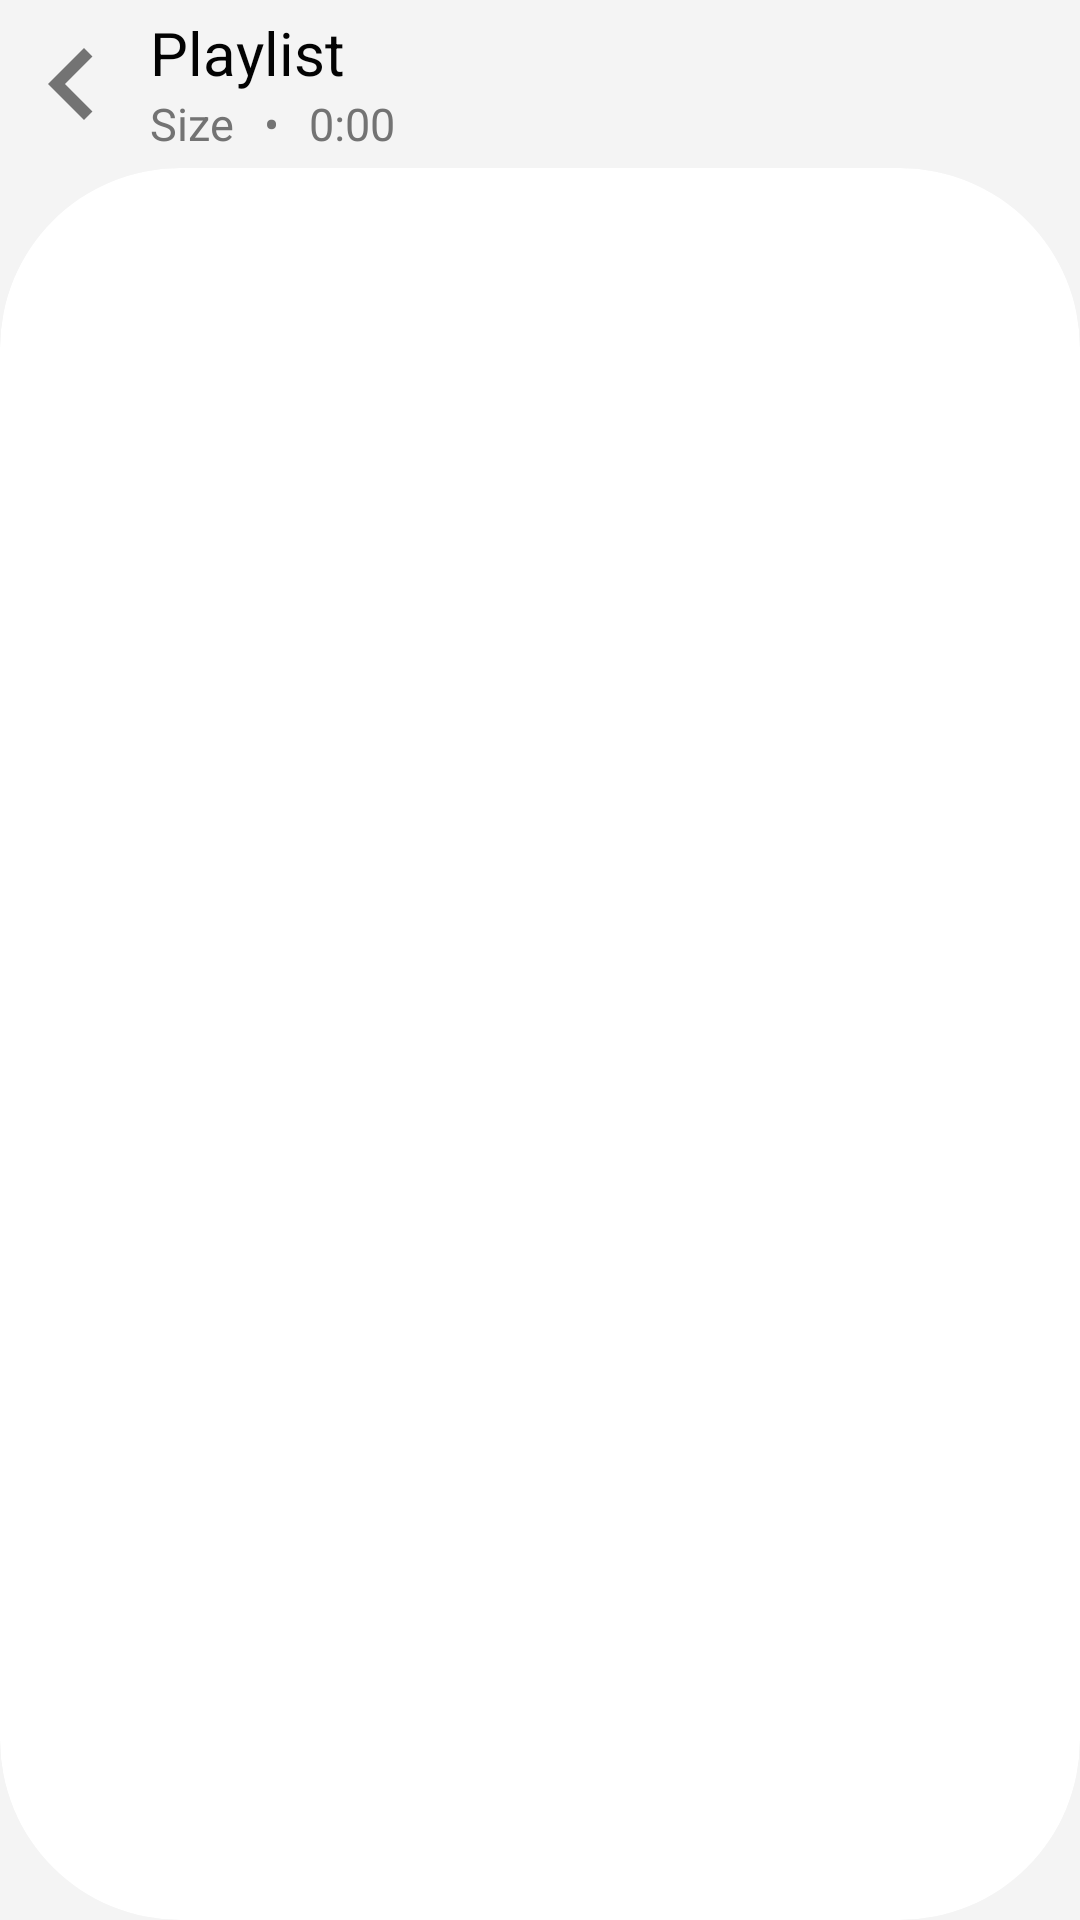

Named icons in this screenshot (1080×1920) and their centers, (x=x, y=y):
chevron left: (x=70, y=84)
